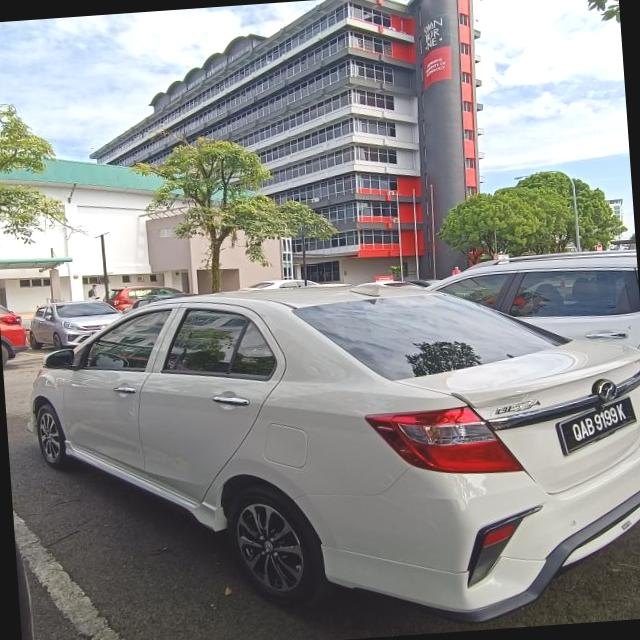PeroduaBezza: (18, 259, 640, 640)
